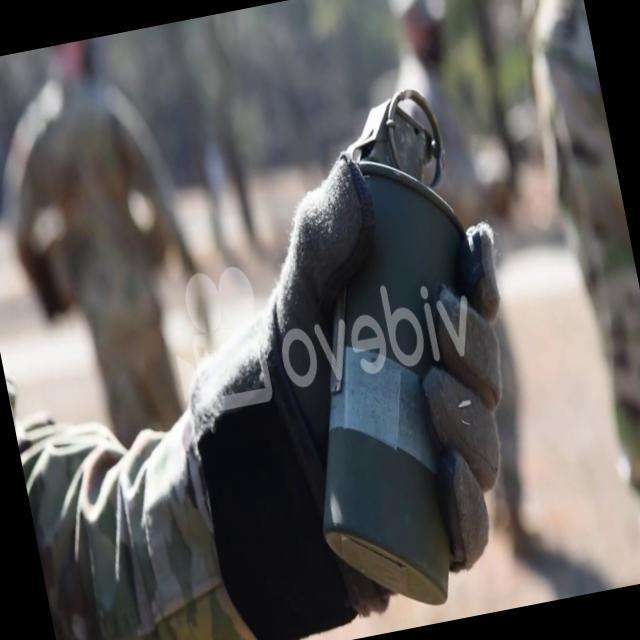grenade: (243, 85, 538, 624)
